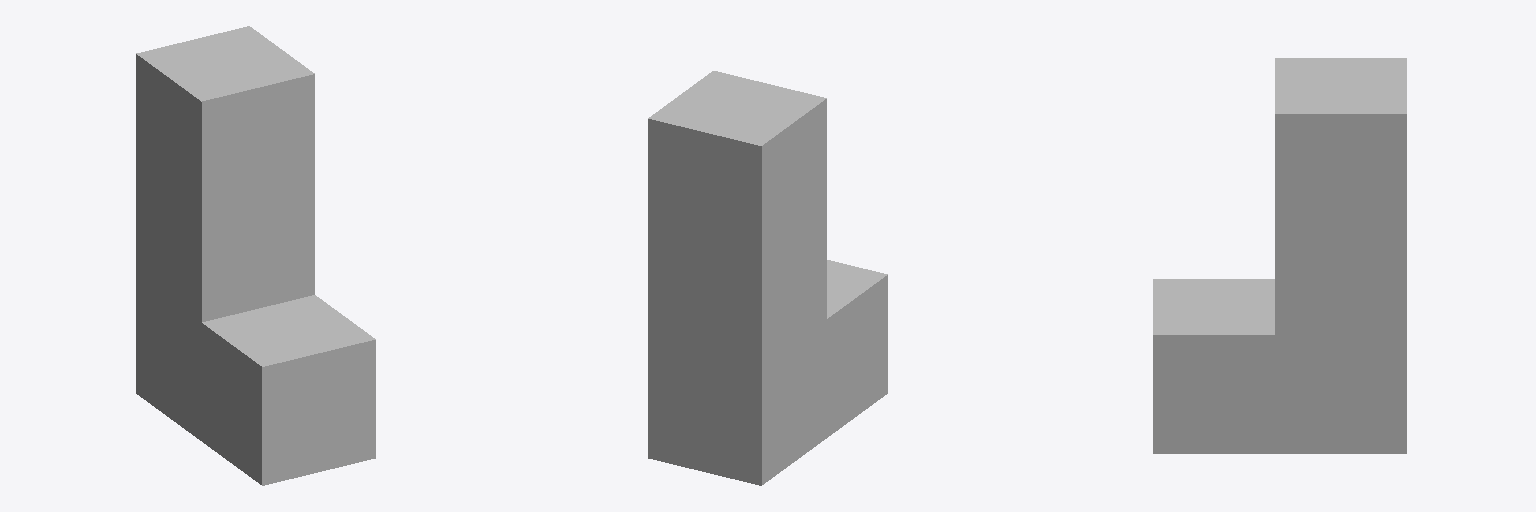
The model's file is lowleg.obj.
3 renders of one model, left to right at view 1: azimuth 30°, elevation 25°; view 2: azimuth 150°, elevation 25°; view 3: azimuth 270°, elevation 25°, orthographic.
Visible parts, largest first — view 1: playerlowleg; view 2: playerlowleg; view 3: playerlowleg.
Part boxes in pixels (x1,y1,x2,y2): playerlowleg: (136,26,375,485); playerlowleg: (648,71,887,485); playerlowleg: (1153,58,1406,453).
Size of the model in its own units: 1.4 by 4 by 2.7.